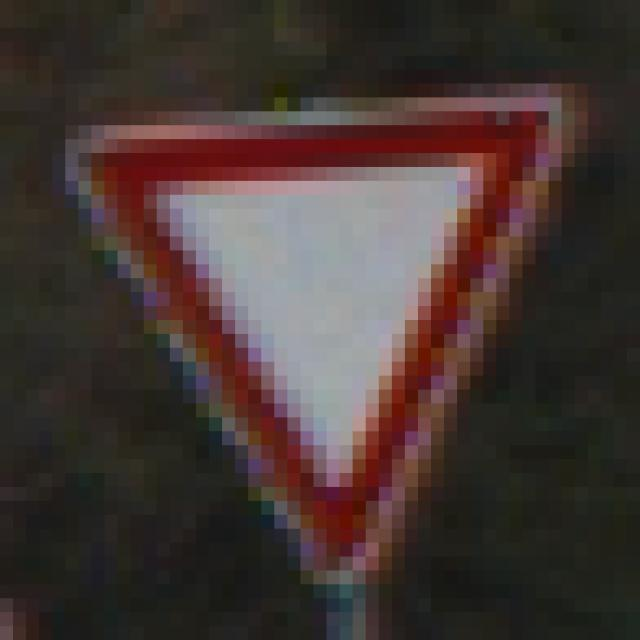Give Way: (66, 85, 576, 572)
